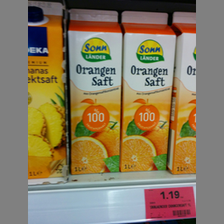juice: (66, 8, 123, 177), (120, 11, 177, 172)
